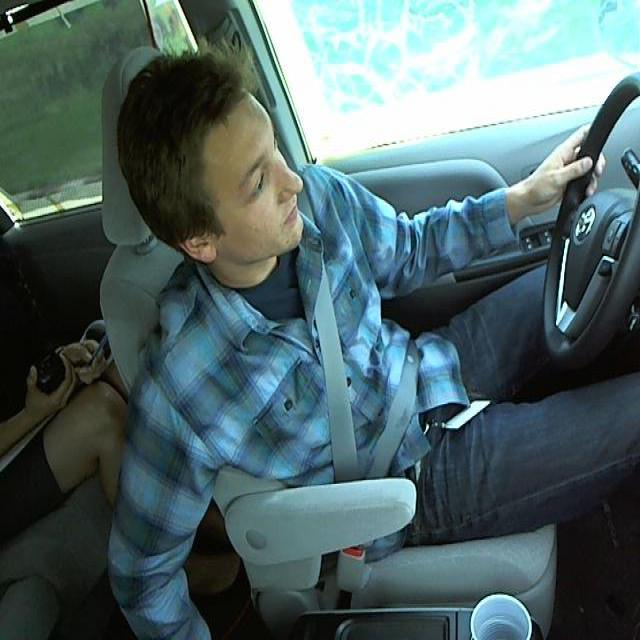seatbelt: (291, 255, 424, 501)
